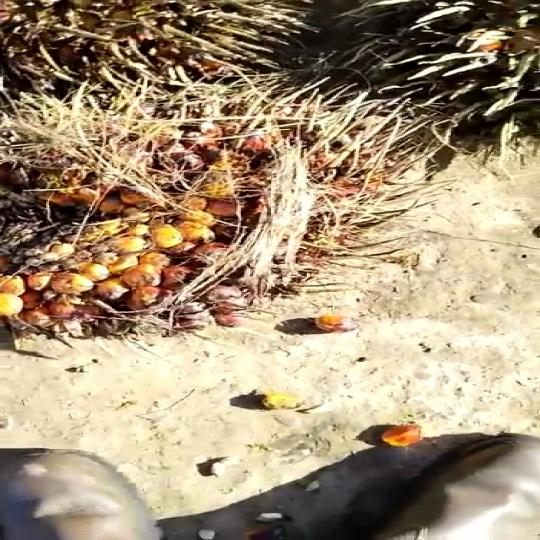terlalu masak: (0, 64, 437, 363)
